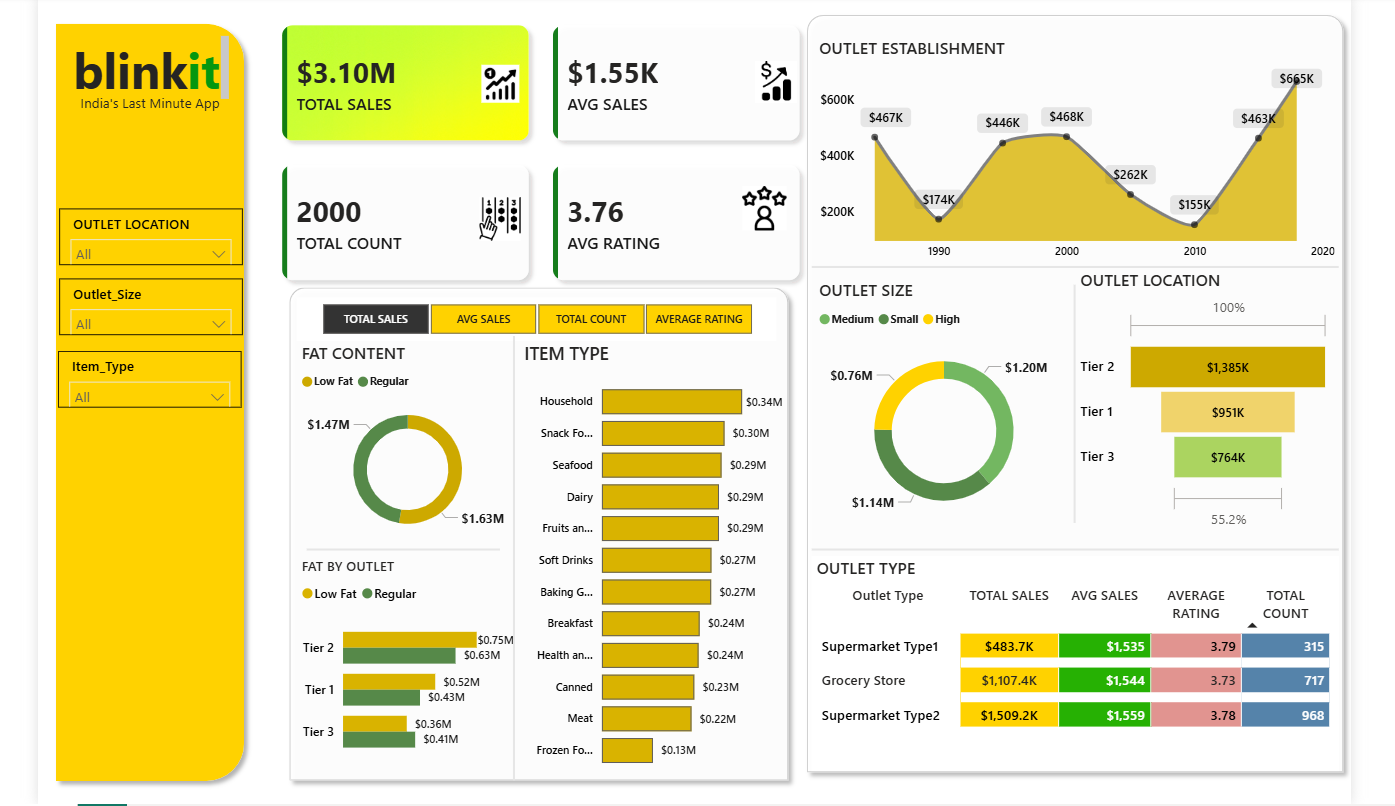

What the dashboard file says about the page in this screenshot:
{"tool":"powerbi","page":{"name":"Page 1","canvas":[1300,800],"ordinal":0},"visuals":[{"type":"shape","box":[8.6,18.6,204.3,767.1],"z":0},{"type":"textbox","box":[30,34.3,164.3,72.9],"z":1000},{"type":"textbox","box":[37.5,91.2,151.5,30.8],"z":2000},{"type":"cardVisual","fields":{"Data":["Measure table.TOTAL SALES","Measure table.AVG SALES","Measure table.TOTAL COUNT","Measure table.AVERAGE RATING","Measure table.AVG SALES"]},"box":[212.9,0,570,310],"z":3000},{"type":"image","box":[412.9,68.4,88.5,37.5],"z":4000},{"type":"image","box":[430.3,199.7,53.6,42.9],"z":5000},{"type":"image","box":[670.2,187.7,96.5,44.2],"z":6000},{"type":"image","box":[709.1,64.3,42.9,41.6],"z":7000},{"type":"shape","box":[240,280,511.4,505.7],"z":8000},{"type":"donutChart","title":"FAT CONTENT","fields":{"Y":["Measure table.TOTAL SALES"],"Category":["blinkit_analysis products.Item_Fat_Content"]},"box":[256,341.8,219.8,205.1],"z":9000},{"type":"slicer","fields":{"Values":["Metrics.Metrics"]},"box":[255.7,298.6,474.3,42.9],"z":10000},{"type":"clusteredBarChart","title":"FAT BY OUTLET","fields":{"Y":["Measure table.TOTAL SALES"],"Category":["blinkit_analysis outlets.Outlet_Location_Type"],"Series":["blinkit_analysis products.Item_Fat_Content"]},"box":[256,553.6,219.8,213.1],"z":11000},{"type":"shape","box":[265.7,521.4,191.4,51.4],"z":12000},{"type":"shape","box":[466.5,336.5,9.4,439.7],"z":13000},{"type":"barChart","title":"ITEM TYPE","fields":{"Y":["Measure table.TOTAL SALES"],"Category":["blinkit_analysis products.Item_Type"]},"box":[475.7,341.4,265.7,435.7],"z":14000},{"type":"shape","box":[751.4,10,548.6,767.1],"z":15000},{"type":"lineChart","title":"OUTLET ESTABLISHMENT","fields":{"Category":["blinkit_analysis outlets.Outlet_Establishment_Year"],"Y":["Measure table.TOTAL SALES"]},"box":[768.6,40,520,230],"z":16000},{"type":"shape","box":[765.7,242.9,521.4,51.4],"z":17000},{"type":"donutChart","title":"OUTLET SIZE","fields":{"Y":["Measure table.TOTAL SALES"],"Category":["blinkit_analysis outlets.Outlet_Size"]},"box":[768.6,280,257.1,252.9],"z":18000},{"type":"funnel","title":"OUTLET LOCATION","fields":{"Category":["blinkit_analysis outlets.Outlet_Location_Type"],"Y":["Measure table.TOTAL SALES"]},"box":[1027.1,270,257.1,262.9],"z":19000},{"type":"shape","box":[1022.9,285.7,5.7,235.7],"z":20000},{"type":"shape","box":[765.7,521.4,521.4,51.4],"z":21000},{"type":"pivotTable","title":"OUTLET TYPE","fields":{"Rows":["blinkit_analysis outlets.Outlet_Type"],"Values":["Measure table.TOTAL SALES","Measure table.AVG SALES","Measure table.AVERAGE RATING","Measure table.TOTAL COUNT"]},"box":[765.7,554.3,521.4,212.9],"z":22000},{"type":"slicer","fields":{"Values":["blinkit_analysis outlets.Outlet_Location_Type"]},"box":[21.4,210,181.4,55.7],"z":23000},{"type":"slicer","fields":{"Values":["blinkit_analysis outlets.Outlet_Size"]},"box":[21.4,280,181.4,55.7],"z":24000},{"type":"slicer","fields":{"Values":["blinkit_analysis products.Item_Type"]},"box":[20,351.4,181.4,55.7],"z":25000}]}

Visuals, with their boxes on the page's 1300x800 design canvas (x1, y1, x2, y2). These are canvas units, not pixel positions in the 1395x806 screenshot, which may show the page scaled, cropped or inside an application window:
shape: x1=9 y1=19 x2=213 y2=786
textbox: x1=30 y1=34 x2=194 y2=107
textbox: x1=38 y1=91 x2=189 y2=122
cardVisual - Measure table.TOTAL SALES x Measure table.AVG SALES: x1=213 y1=0 x2=783 y2=310
image: x1=413 y1=68 x2=501 y2=106
image: x1=430 y1=200 x2=484 y2=243
image: x1=670 y1=188 x2=767 y2=232
image: x1=709 y1=64 x2=752 y2=106
shape: x1=240 y1=280 x2=751 y2=786
"FAT CONTENT" donutChart: x1=256 y1=342 x2=476 y2=547
slicer - Metrics.Metrics: x1=256 y1=299 x2=730 y2=342
"FAT BY OUTLET" clusteredBarChart: x1=256 y1=554 x2=476 y2=767
shape: x1=266 y1=521 x2=457 y2=573
shape: x1=466 y1=336 x2=476 y2=776
"ITEM TYPE" barChart: x1=476 y1=341 x2=741 y2=777
shape: x1=751 y1=10 x2=1300 y2=777
"OUTLET ESTABLISHMENT" lineChart: x1=769 y1=40 x2=1289 y2=270
shape: x1=766 y1=243 x2=1287 y2=294
"OUTLET SIZE" donutChart: x1=769 y1=280 x2=1026 y2=533
"OUTLET LOCATION" funnel: x1=1027 y1=270 x2=1284 y2=533
shape: x1=1023 y1=286 x2=1029 y2=521
shape: x1=766 y1=521 x2=1287 y2=573
"OUTLET TYPE" pivotTable: x1=766 y1=554 x2=1287 y2=767
slicer - blinkit_analysis outlets.Outlet_Location_Type: x1=21 y1=210 x2=203 y2=266
slicer - blinkit_analysis outlets.Outlet_Size: x1=21 y1=280 x2=203 y2=336
slicer - blinkit_analysis products.Item_Type: x1=20 y1=351 x2=201 y2=407
